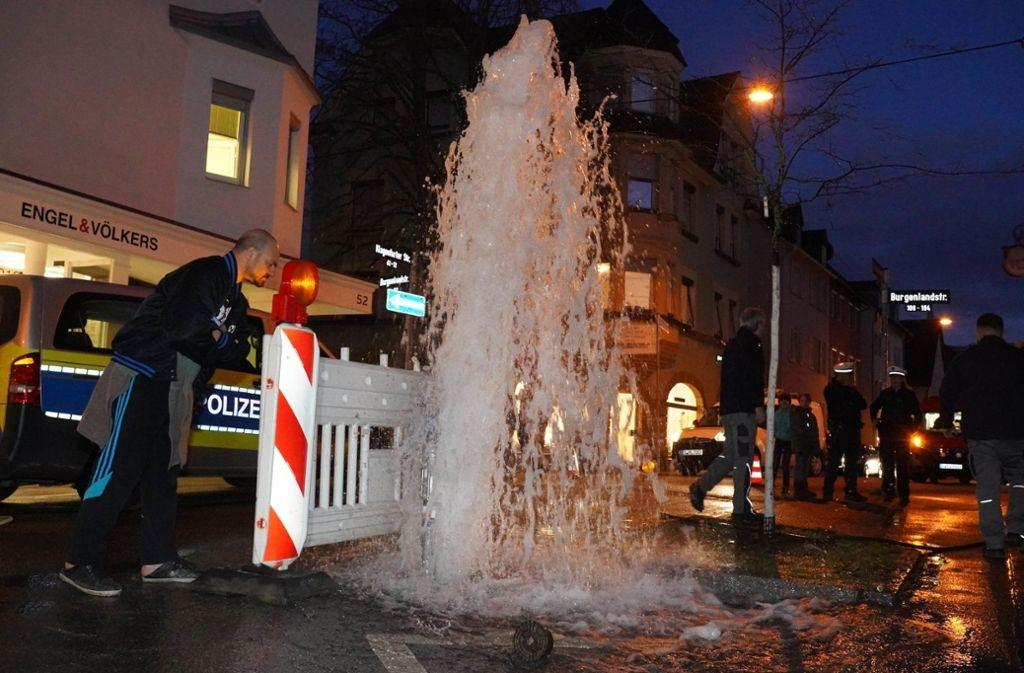pipe burst: (410, 13, 671, 587)
water accumulation: (388, 589, 1008, 673)
